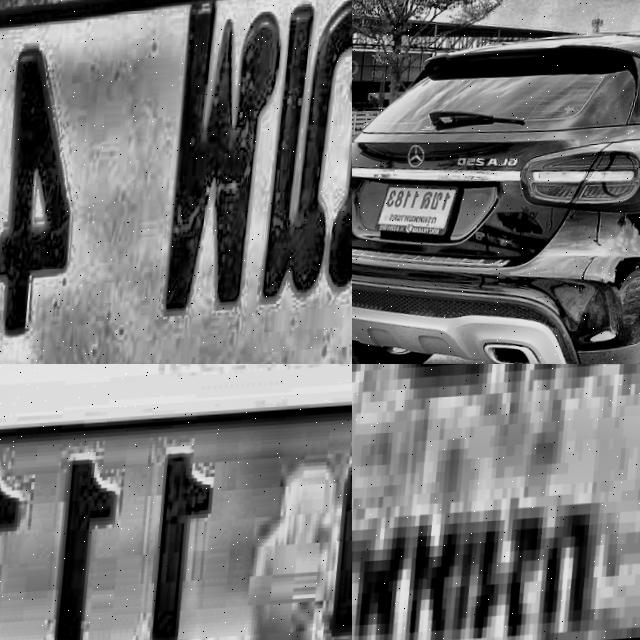license-plate: (0, 0, 352, 364), (0, 374, 352, 640), (352, 364, 640, 640), (378, 176, 472, 243)
